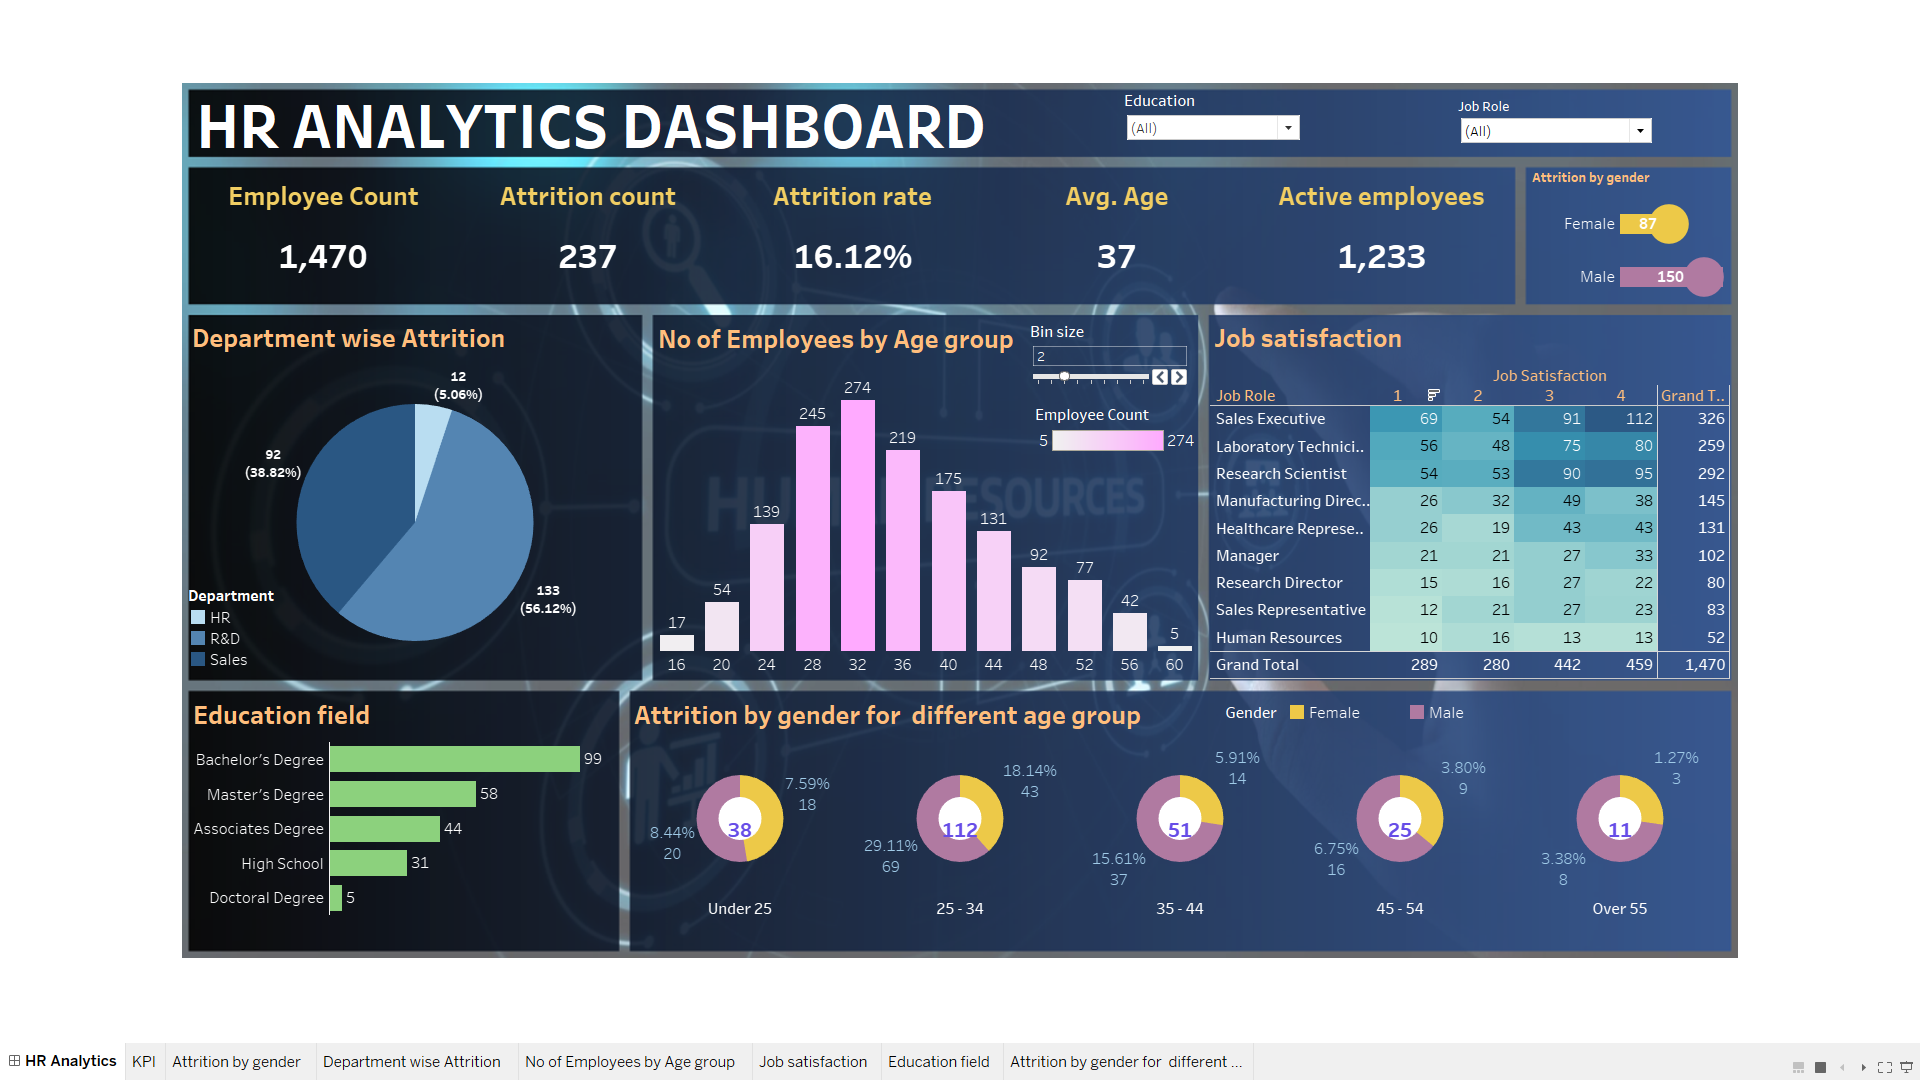

The dashboard page shown, as its layout file describes it:
{"tool":"tableau","page":{"name":"HR Analytics","canvas":[1580,900],"ordinal":0},"visuals":[{"type":"image","param":"C:/Users/bharath/Downloads/HR background.pptx.png","box":[8,8,1564,884]},{"type":"filter","title":"No of Employees by Age group","param":"[federated.1ycovl30x04eut12h2784101w4j9].[none:Education:nk]","box":[954,19,179,66]},{"type":"text","box":[23,25,815,54]},{"type":"filter","title":"Department wise Attrition","param":"[federated.1ycovl30x04eut12h2784101w4j9].[none:Job Role:nk]","box":[1288,26,197,49]},{"type":"worksheet","title":"Attrition by gender","mark":"Bar","rows":["Gender"],"cols":["Calculation_844706460035862528","Calculation_844706460035862528"],"box":[1358,93,200,139]},{"type":"worksheet","title":"KPI","mark":"Automatic","box":[21,101,1323,126]},{"type":"worksheet","title":"Department wise Attrition","mark":"Pie","box":[18,245,454,364]},{"type":"worksheet","title":"Job satisfaction","mark":"Square","rows":["Job Role"],"cols":["Job Satisfaction"],"box":[1040,245,520,363]},{"type":"worksheet","title":"No of Employees by Age group","mark":"Automatic","rows":["Employee Count"],"cols":["Age (bin)"],"box":[484,246,544,359]},{"type":"parameter","param":"[Parameters].[Parameter 1]","box":[860,250,160,71]},{"type":"legend","title":"No of Employees by Age group","param":"[federated.1ycovl30x04eut12h2784101w4j9].[sum:Employee Count:qk]","box":[865,333,164,88]},{"type":"legend","title":"Department wise Attrition","param":"[federated.1ycovl30x04eut12h2784101w4j9].[none:Department:nk]","box":[18,514,140,85]},{"type":"worksheet","title":"Education field","mark":"Automatic","rows":["Education"],"cols":["Calculation_844706460035862528"],"box":[19,622,431,222]},{"type":"worksheet","title":"Attrition by gender for  different age group","mark":"Pie","rows":["Calculation_1265511550491971586","Calculation_1265511550491971586"],"cols":["CF_age band"],"box":[460,622,1100,227]},{"type":"legend","title":"Attrition by gender for  different age group","param":"[federated.1ycovl30x04eut12h2784101w4j9].[none:Gender:nk]","box":[1045,631,433,37]}]}

Visuals, with their boxes on the page's 1580x900 design canvas (x1, y1, x2, y2). These are canvas units, not pixel positions in the 1920x1080 screenshot, which may show the page scaled, cropped or inside an application window:
image: 8/8/1572/892
"No of Employees by Age group" filter: 954/19/1133/85
text: 23/25/838/79
"Department wise Attrition" filter: 1288/26/1485/75
"Attrition by gender" worksheet (Bar marks): 1358/93/1558/232
"KPI" worksheet: 21/101/1344/227
"Department wise Attrition" worksheet (Pie marks): 18/245/472/609
"Job satisfaction" worksheet (Square marks): 1040/245/1560/608
"No of Employees by Age group" worksheet: 484/246/1028/605
parameter: 860/250/1020/321
"No of Employees by Age group" legend: 865/333/1029/421
"Department wise Attrition" legend: 18/514/158/599
"Education field" worksheet: 19/622/450/844
"Attrition by gender for  different age group" worksheet (Pie marks): 460/622/1560/849
"Attrition by gender for  different age group" legend: 1045/631/1478/668
